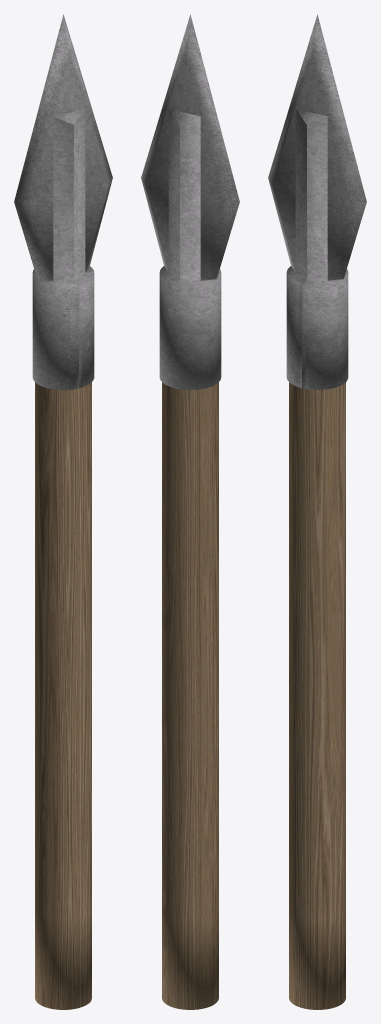
File: spear.obj
The picture shows the model from 3 angles, left to right: view 1: azimuth 30°, elevation 25°; view 2: azimuth 150°, elevation 25°; view 3: azimuth 330°, elevation 25°; orthographic projection.
Visible parts, largest first — view 1: Spear; view 2: Spear; view 3: Spear.
Part boxes in pixels (bbox=[...]): Spear: bbox=[14, 14, 112, 1009]; Spear: bbox=[141, 14, 239, 1009]; Spear: bbox=[268, 14, 366, 1009].
Size of the model in its own units: 1 by 9.51 by 0.54.
